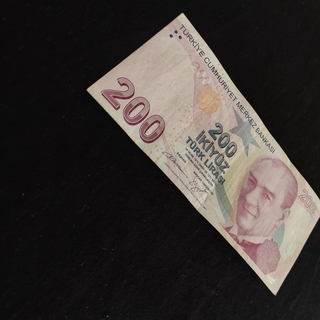200TLFront: (87, 12, 320, 296)
